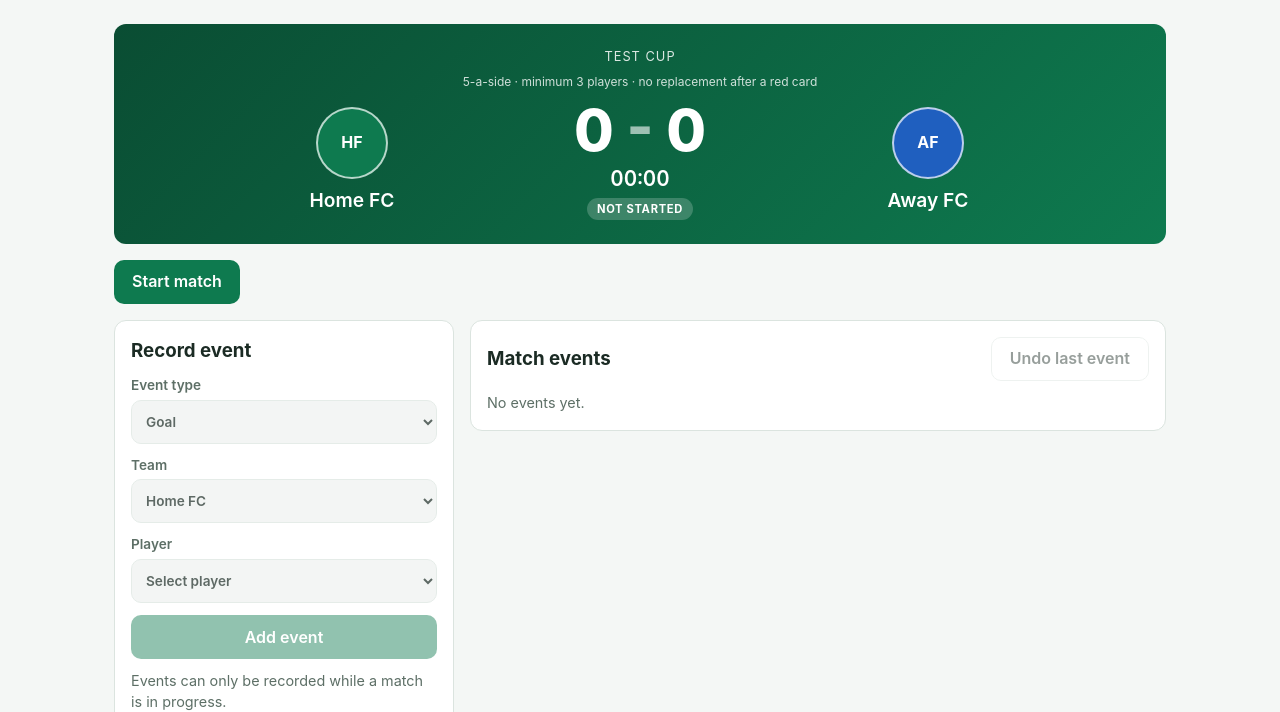
Test: Match Centre: the full workflow › start -> events -> undo -> end with confirmation -> summary
Later steps or results of the test are not shown.
Expected: the button "Add event" is disabled, [131,615,437,659]
Step 1. Click the button "Start match" → (177,282), box [114,260,240,304]
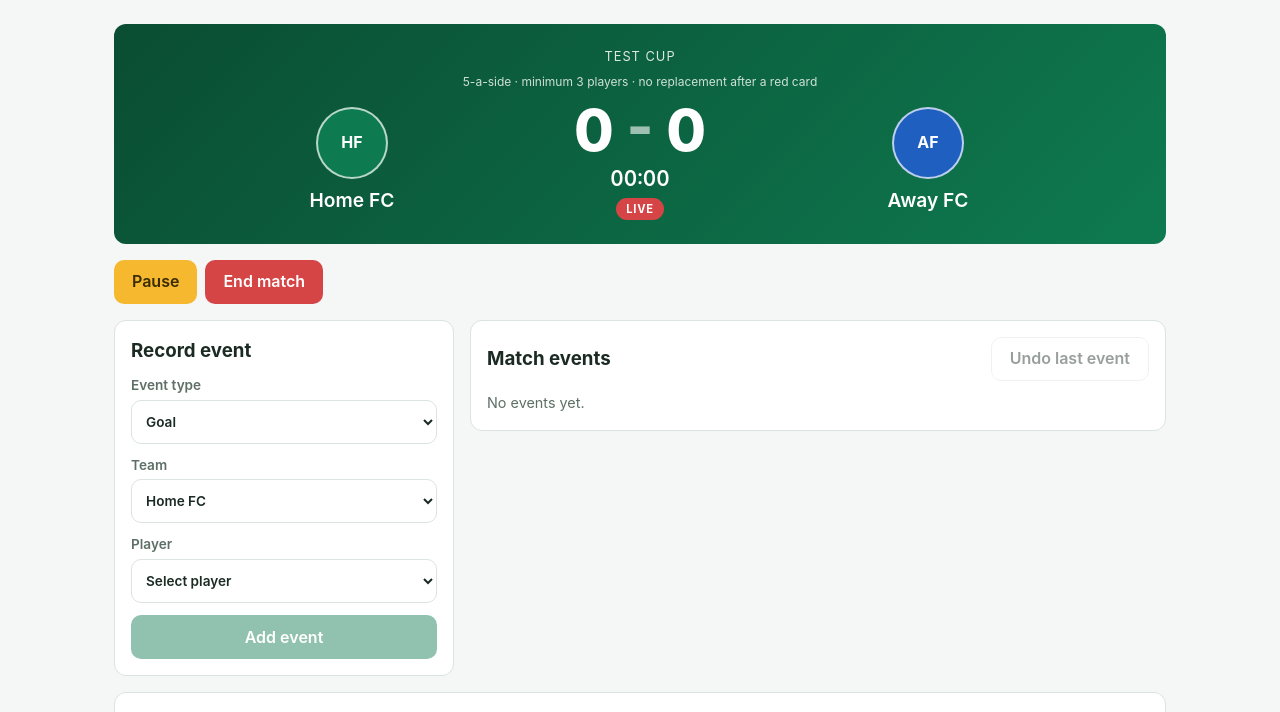
Expected: the text with class "status" reads "Live", [626,202,654,216]
